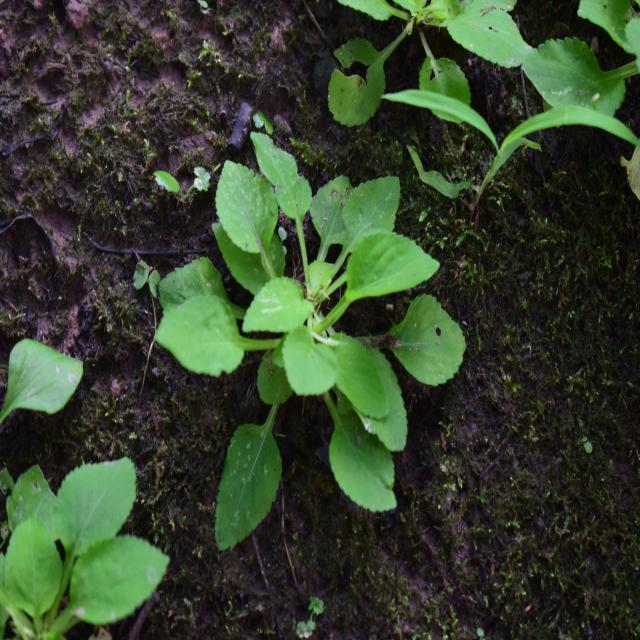Viola: (175, 146, 470, 515)
